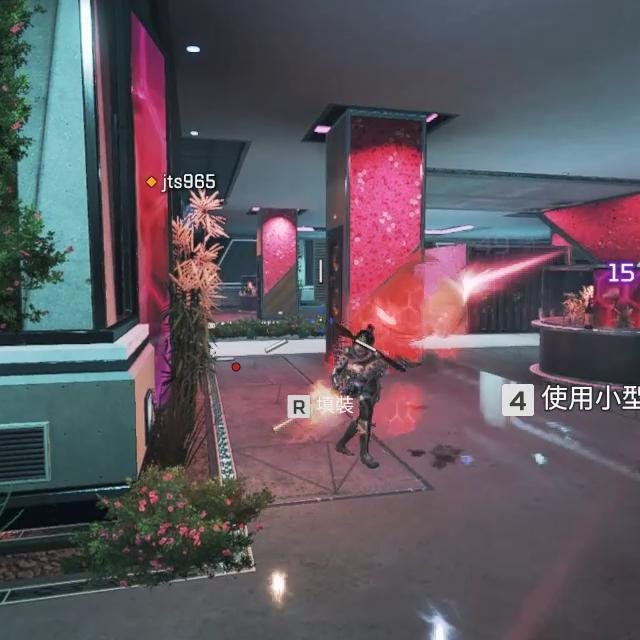avatar: (328, 321, 390, 470)
